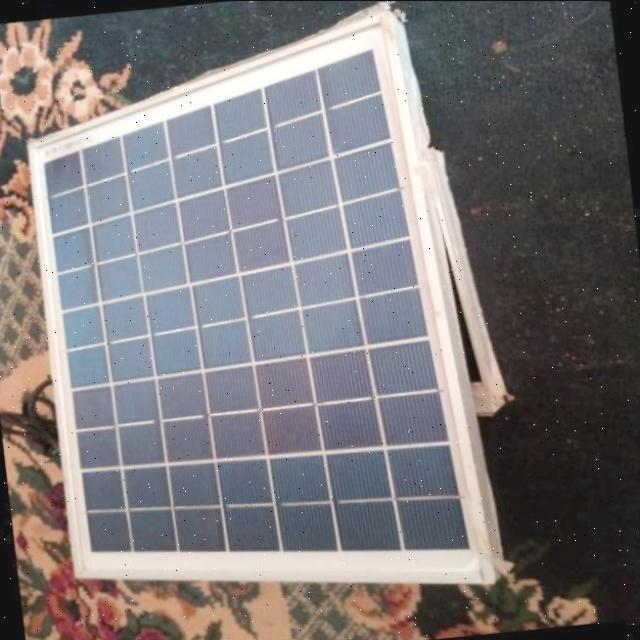Normal Solar Panel: (9, 2, 497, 626)
